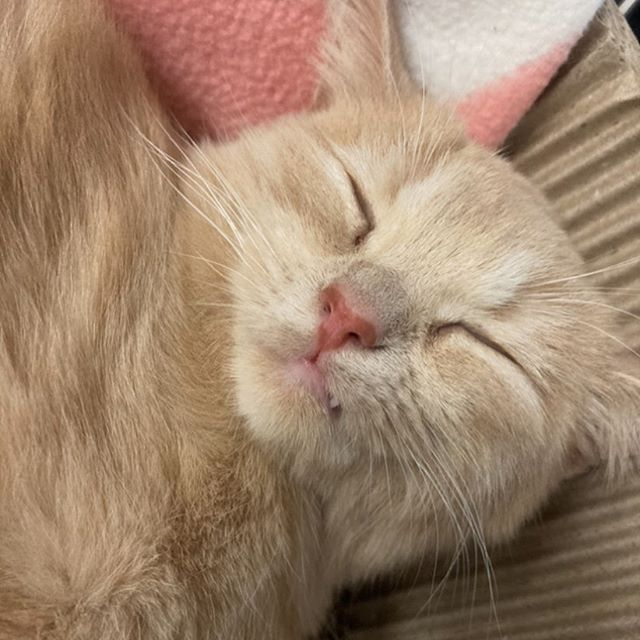cat: (220, 1, 640, 564)
